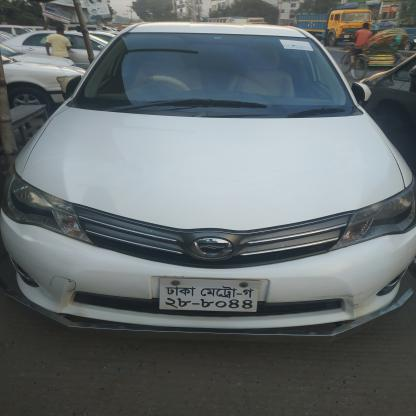license_plate: (158, 275, 270, 317)
